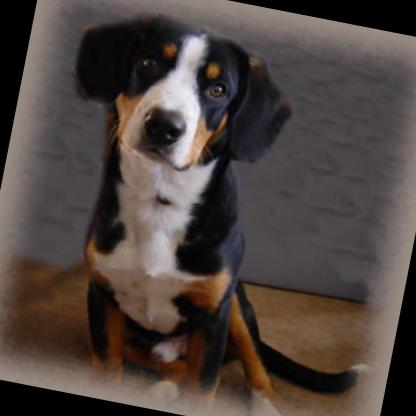EntleBucher: (11, 0, 416, 416)
